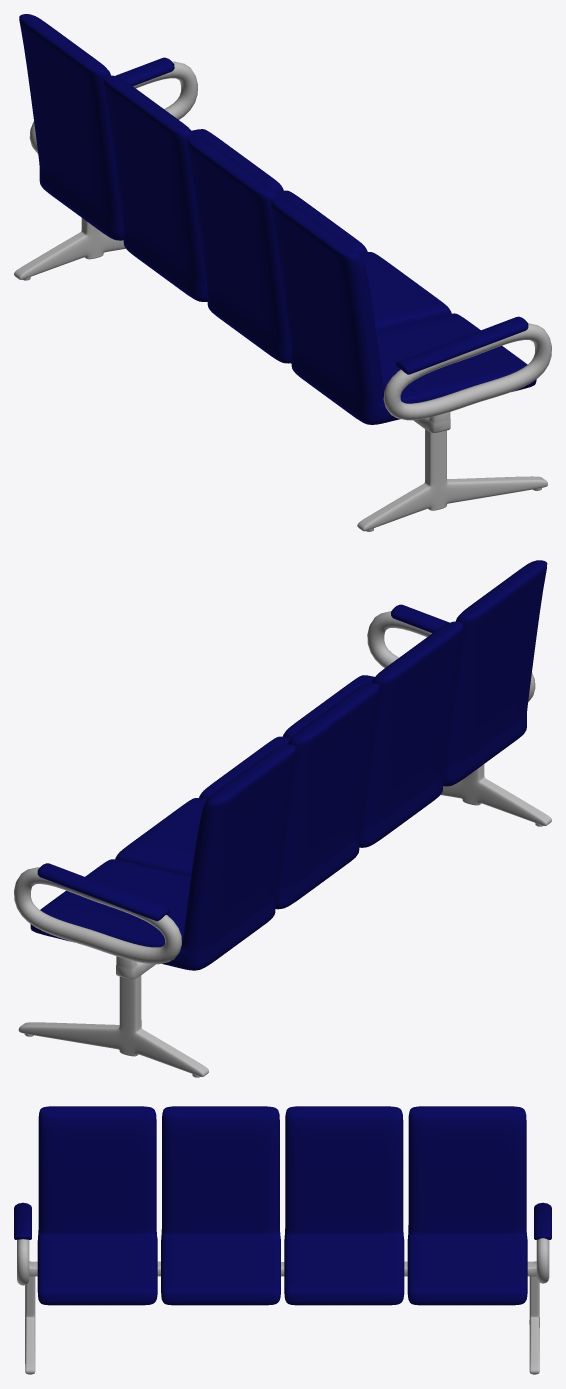
Rendered from airport chairs.fbx.
The picture shows the model from 3 angles, top to bottom: view 1: azimuth 30°, elevation 25°; view 2: azimuth 150°, elevation 25°; view 3: azimuth 270°, elevation 25°; orthographic projection. The views are drawn at different scales.
Visible parts, largest first — view 1: Seats, Chair legs, Chair Arms, Chair arm pads; view 2: Seats, Chair legs, Chair Arms, Chair arm pads; view 3: Seats, Chair legs, Chair arm pads, Chair Arms.
Boxes of the visible parts, x1,y1,x2,y2 form: Seats: (19, 14, 536, 424); Chair legs: (14, 218, 547, 531); Chair Arms: (29, 61, 551, 420); Chair arm pads: (115, 57, 528, 374); Seats: (30, 560, 547, 970); Chair legs: (18, 764, 551, 1077); Chair Arms: (14, 611, 535, 964); Chair arm pads: (37, 604, 449, 921); Seats: (37, 1106, 527, 1305); Chair legs: (25, 1261, 539, 1374); Chair arm pads: (14, 1202, 551, 1239); Chair Arms: (17, 1238, 549, 1285).
Size of the model in its own units: 76.68 by 103 by 250.
